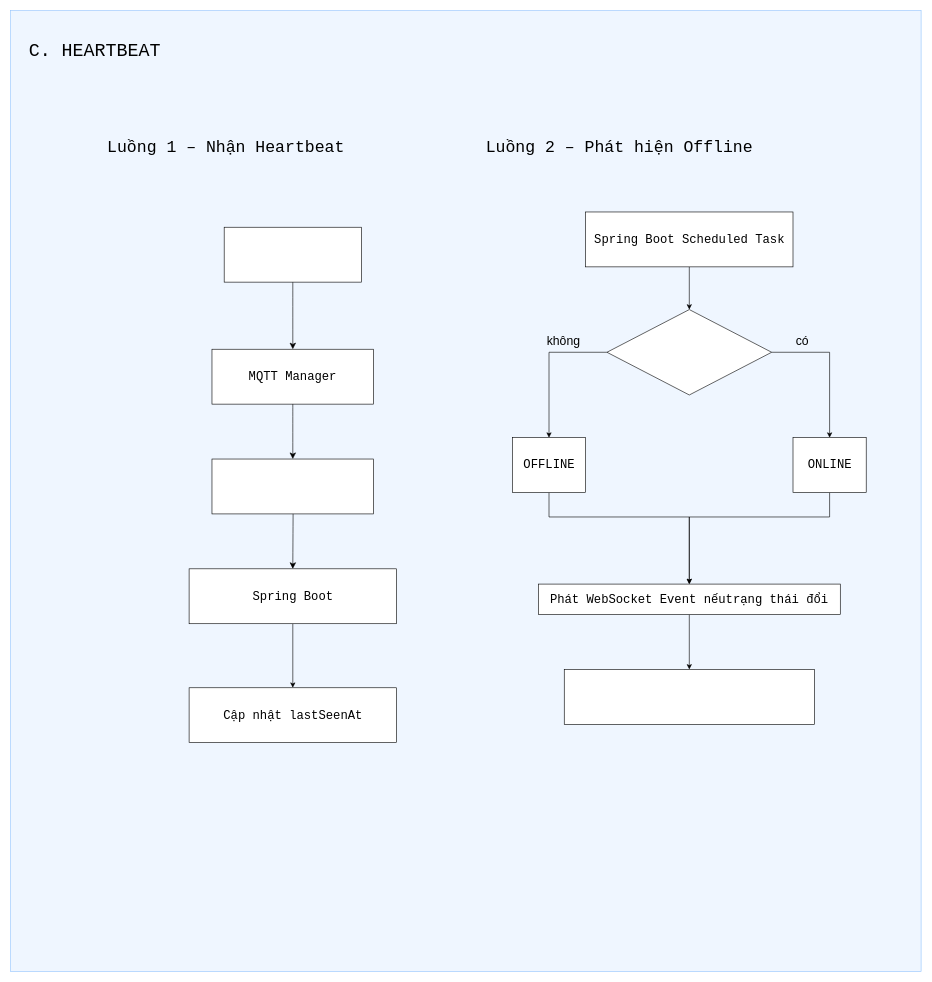
Image size: 932x982. Some labels were removed from this diagram. Here are the shapes that lost their labels. From the top down, the centre of each, then its label:
At [292,254]: "ESP32".
At [689,352]: "Quá Heartbeat timeout?".
At [292,486]: "MQTT Broker".
At [689,696]: "Dashboard cập nhật trạng thái".
